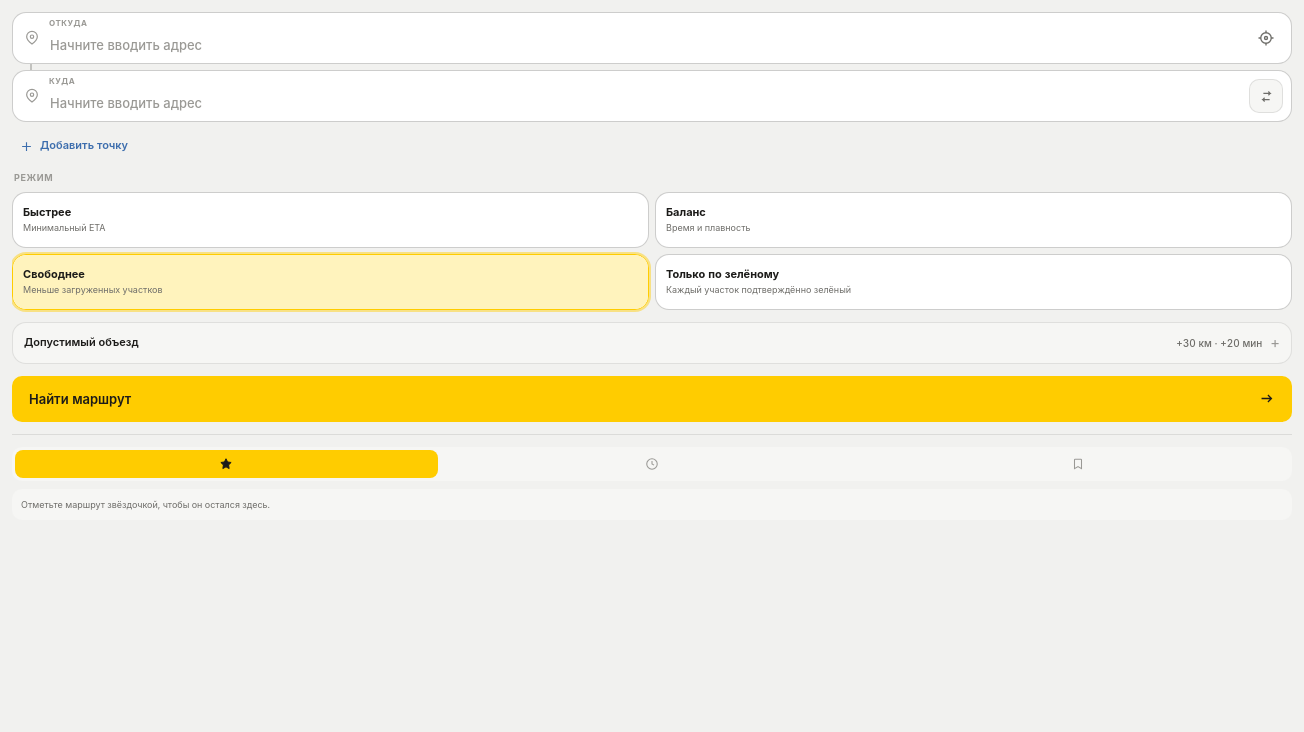
Test: RouteForm suggestion resolution › stores a resolved route locally for quick reuse without another geocode
Type "ВДНХ" into the dropdown with placeholder "Начните вводить адрес" next to "Откуда" at (652, 38), box [12,12,1292,64]
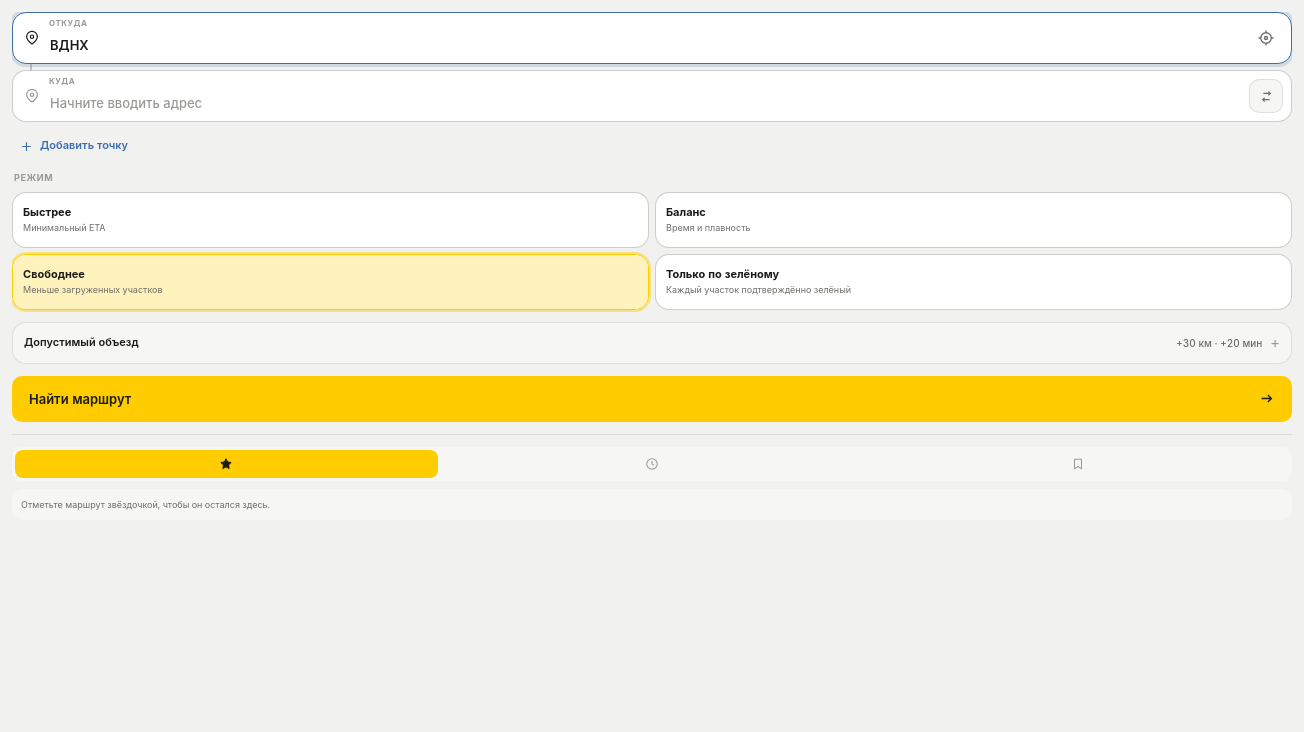
Type "Кремль" into the dropdown with placeholder "Начните вводить адрес" at (652, 96), box [12,70,1292,122]
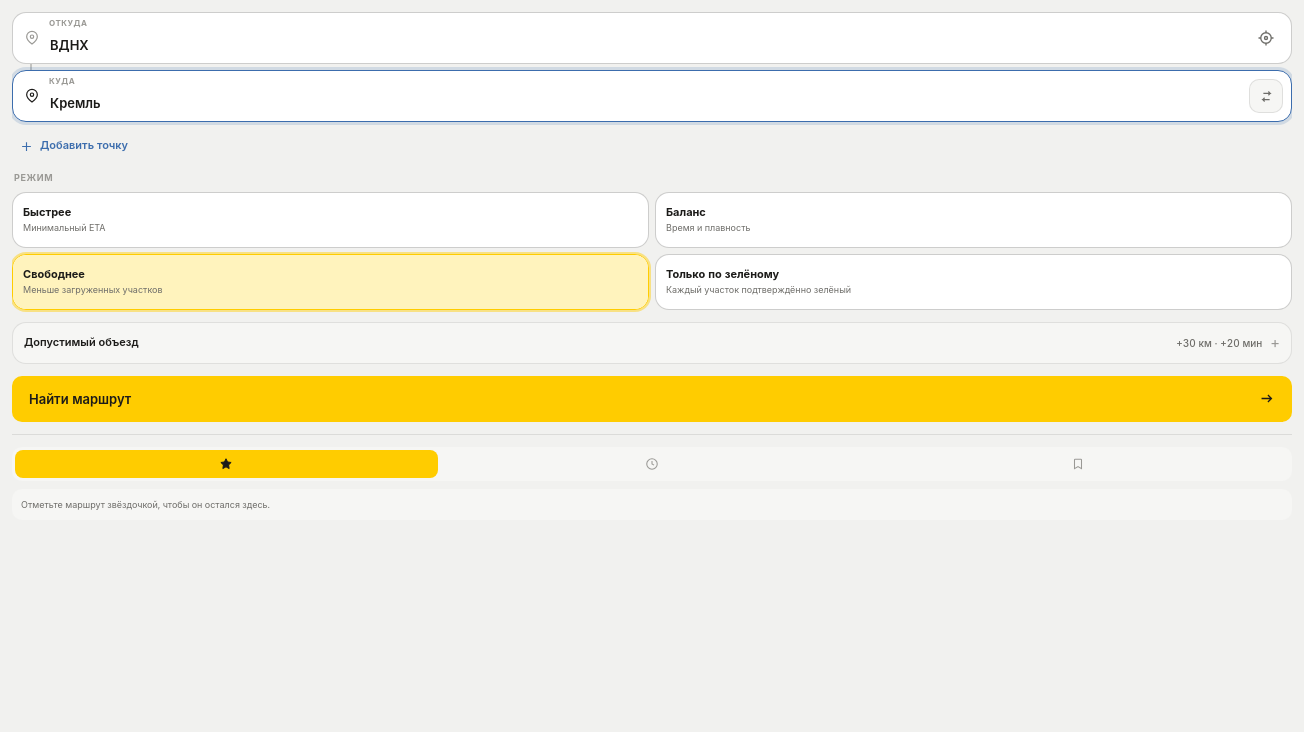
Submit the form
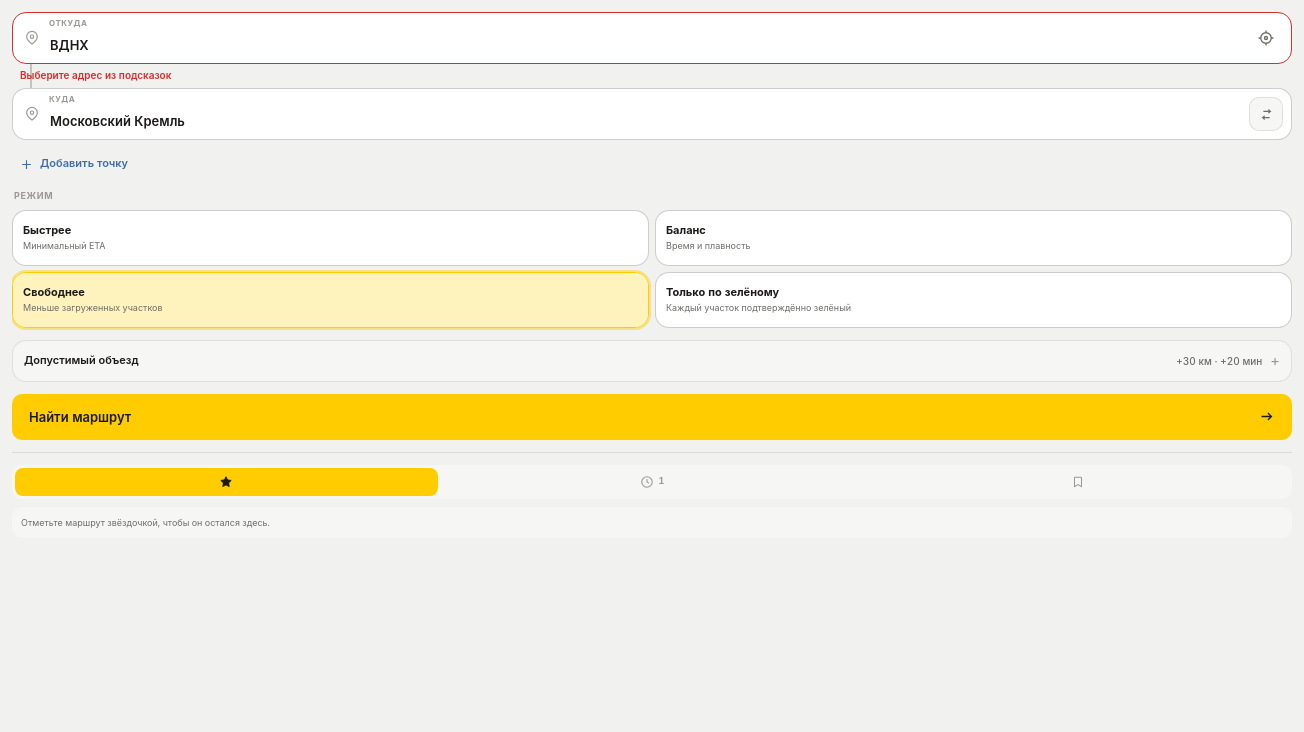
Click the tab with test id "preset-tab-recent" at (652, 482), box [441,468,863,496]
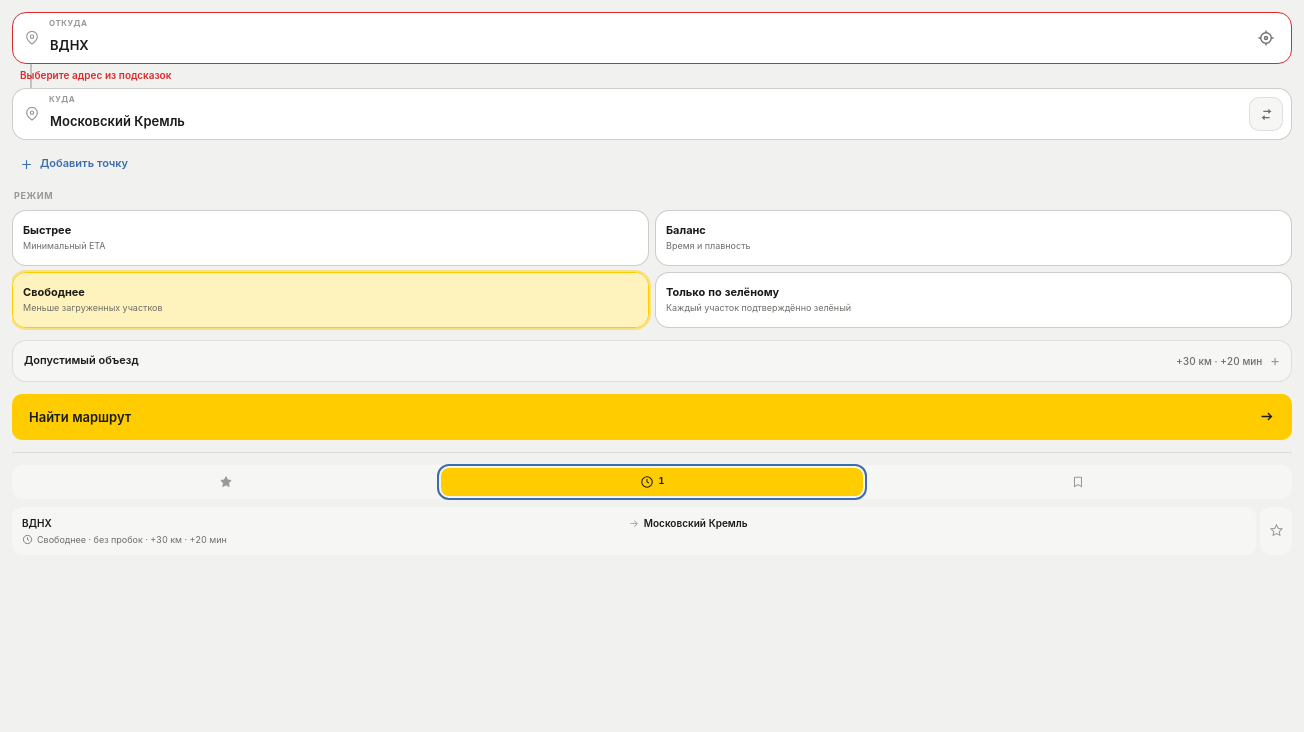
Expected: the button with aria-label "Заполнить маршрут" is shown, [12,507,1256,555]
